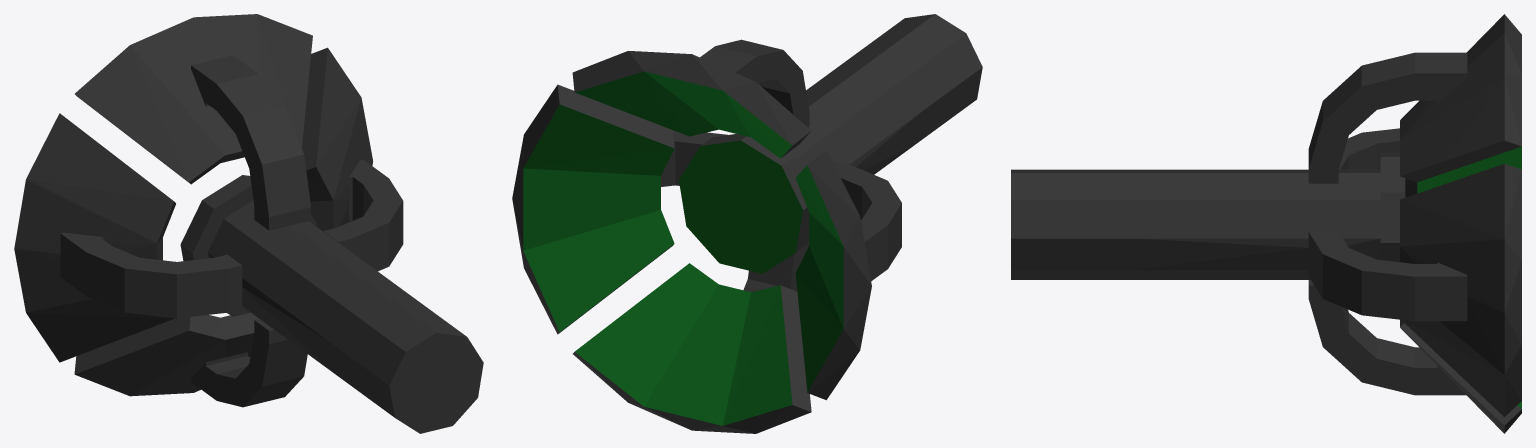
File: Weapon-Healing-Barrel.fbx
3 views of the same model, side by side, from view 1: azimuth 30°, elevation 25°; view 2: azimuth 150°, elevation 25°; view 3: azimuth 270°, elevation 25° (orthographic).
Visible parts, largest first — view 1: Weapon-Healing-Barrel; view 2: Weapon-Healing-Barrel; view 3: Weapon-Healing-Barrel.
Part boxes in pixels (<box>): Weapon-Healing-Barrel: <box>14,14,483,433</box>; Weapon-Healing-Barrel: <box>512,14,982,433</box>; Weapon-Healing-Barrel: <box>1011,14,1521,433</box>.
Size of the model in its own units: 342 by 342 by 415.
